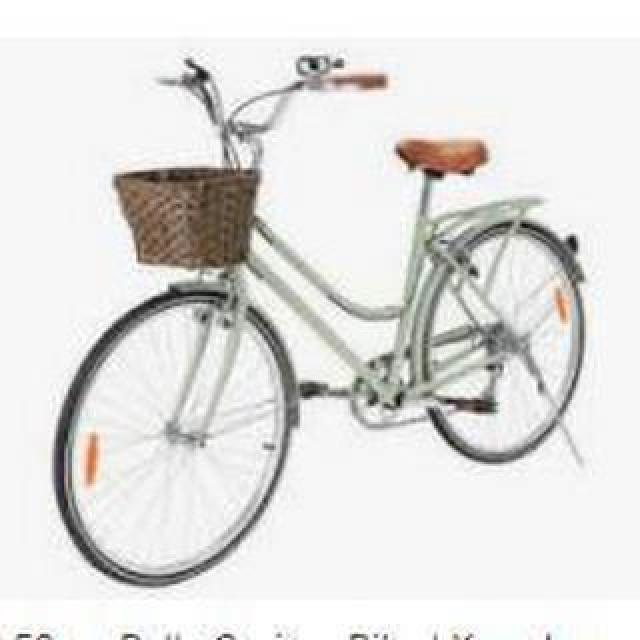Person: (50, 43, 586, 593)
